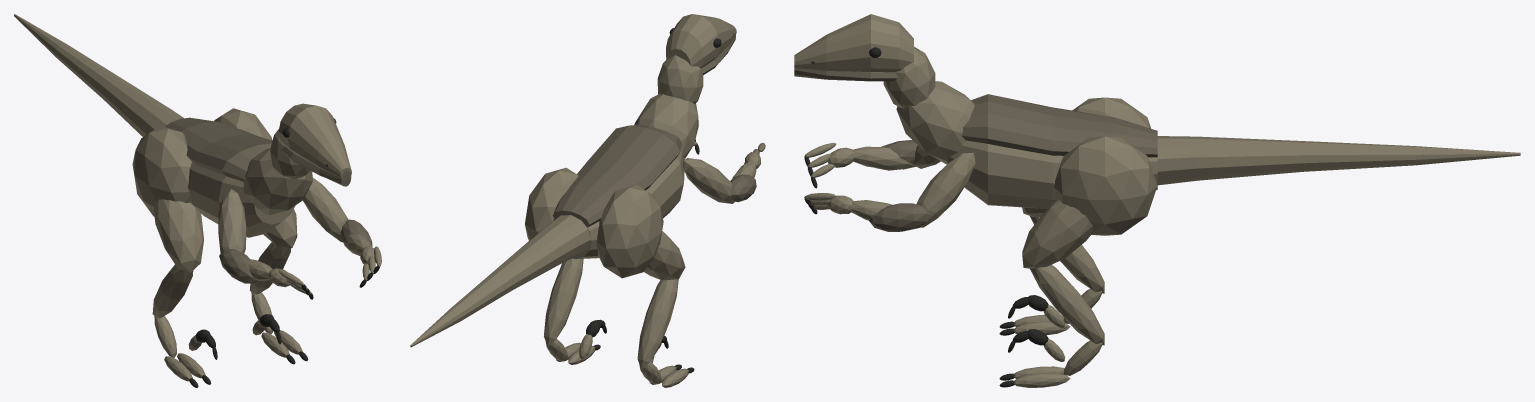
The picture shows the model from 3 angles, left to right: view 1: azimuth 30°, elevation 25°; view 2: azimuth 150°, elevation 25°; view 3: azimuth 270°, elevation 25°; orthographic projection. The views are drawn at different scales.
Parts seen in each view (by area): view 1: surface_umber_gray_body, surface_short_mantle, surface_eyes_claws; view 2: surface_umber_gray_body, surface_short_mantle, surface_eyes_claws; view 3: surface_umber_gray_body, surface_short_mantle, surface_eyes_claws.
Part boxes in pixels (x1,y1,x2,y2): surface_umber_gray_body: (14,14,381,381); surface_short_mantle: (165,117,372,283); surface_eyes_claws: (189,118,380,387); surface_umber_gray_body: (410,14,765,387); surface_short_mantle: (553,35,756,227); surface_eyes_claws: (586,28,744,373); surface_umber_gray_body: (794,14,1520,387); surface_short_mantle: (794,68,1157,231); surface_eyes_claws: (804,47,1048,387).
Size of the model in its own units: 0.2186 by 0.4665 by 0.9.
